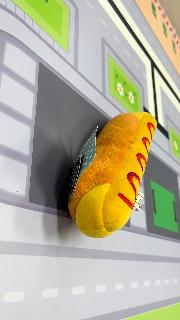hotdog: (67, 111, 157, 239)
